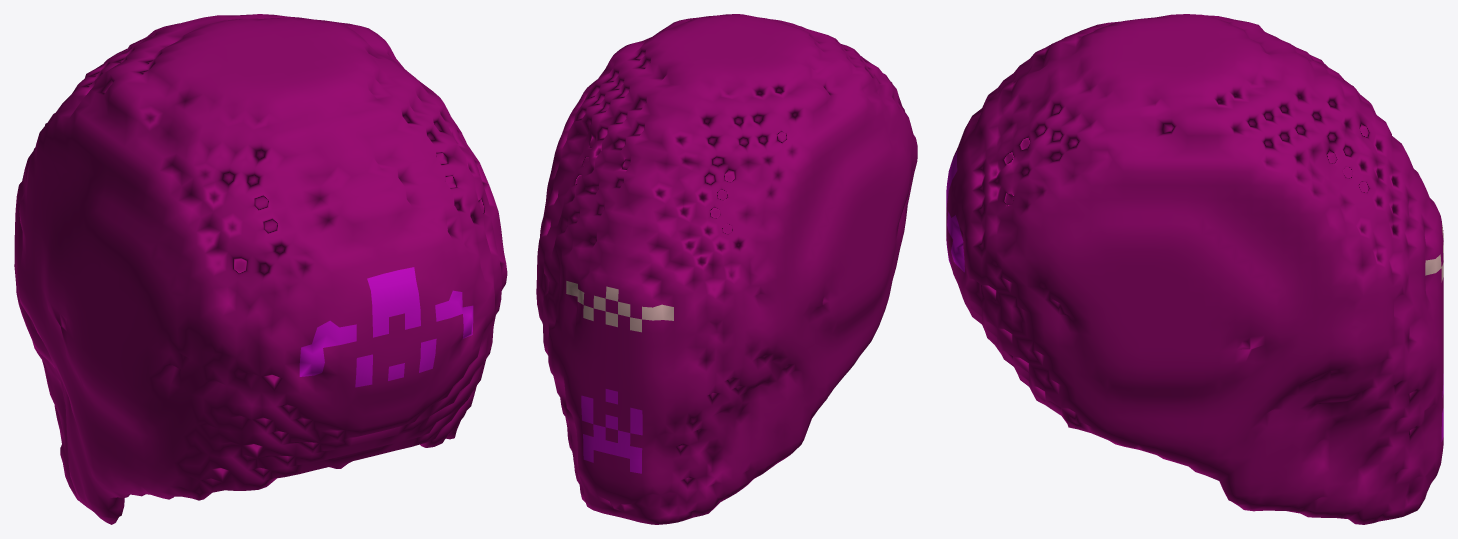
3 renders of one model, left to right at view 1: azimuth 30°, elevation 25°; view 2: azimuth 150°, elevation 25°; view 3: azimuth 270°, elevation 25°, orthographic. The views are drawn at different scales.
Bounding box in the file's own units: 1.05 × 1.54 × 1.55.
